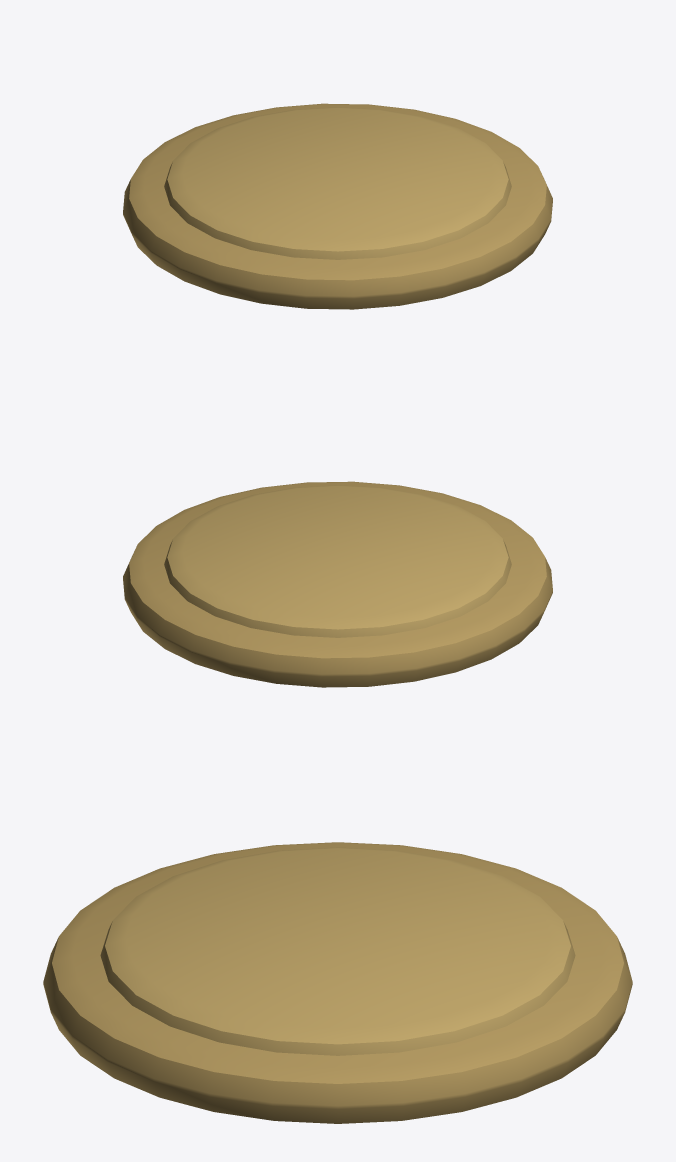
File: pf_marker_coin.glb
3 views of the same model, one above another, from view 1: azimuth 30°, elevation 25°; view 2: azimuth 150°, elevation 25°; view 3: azimuth 270°, elevation 25° (orthographic). The views are drawn at different scales.
Parts seen in each view (by area): view 1: pf_marker_coin_body; view 2: pf_marker_coin_body; view 3: pf_marker_coin_body.
Part boxes in pixels (x1,y1,x2,y2): pf_marker_coin_body: [123, 103, 552, 309]; pf_marker_coin_body: [123, 481, 552, 687]; pf_marker_coin_body: [43, 842, 632, 1123].
Size of the model in its own units: 0.0341 by 0.006 by 0.0341.
